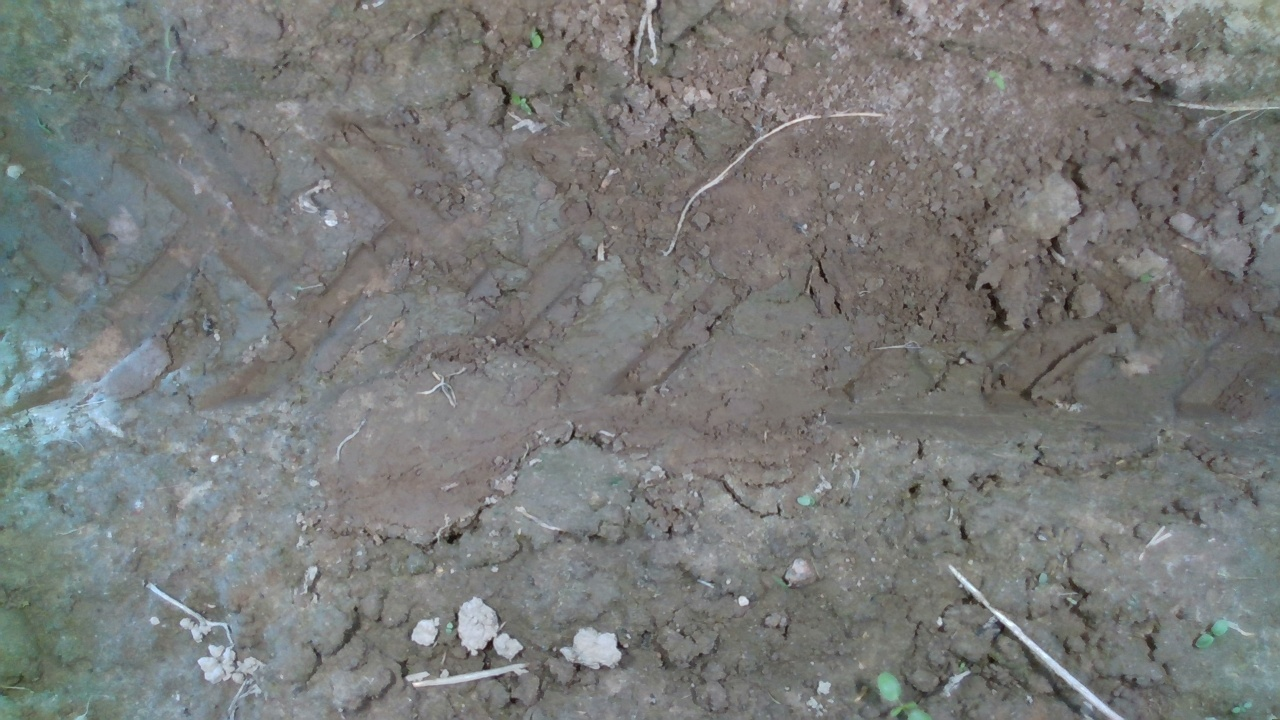weed: (1193, 617, 1229, 651), (511, 91, 532, 116), (793, 493, 817, 509), (527, 26, 542, 49)
